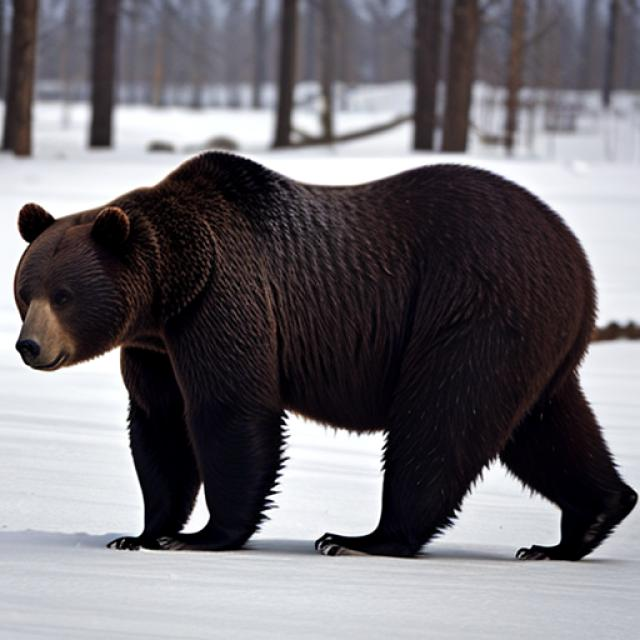bear: (0, 150, 640, 580)
